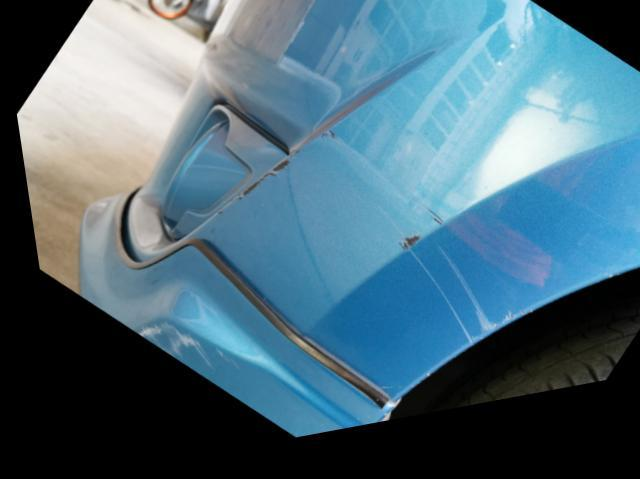scratch: (212, 138, 518, 363), (120, 327, 234, 381)
